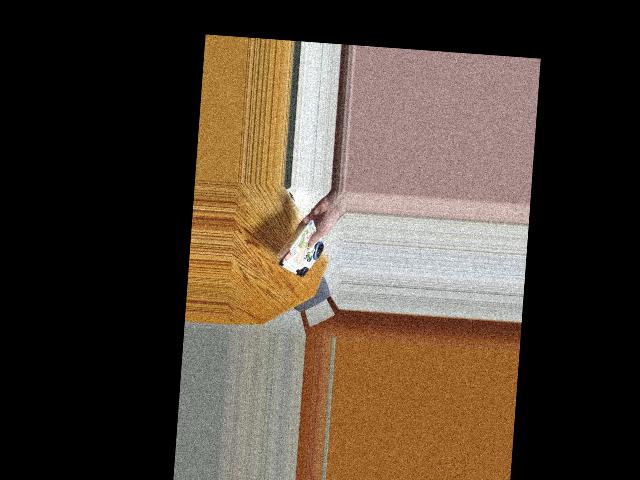cheese: (266, 221, 326, 282)
